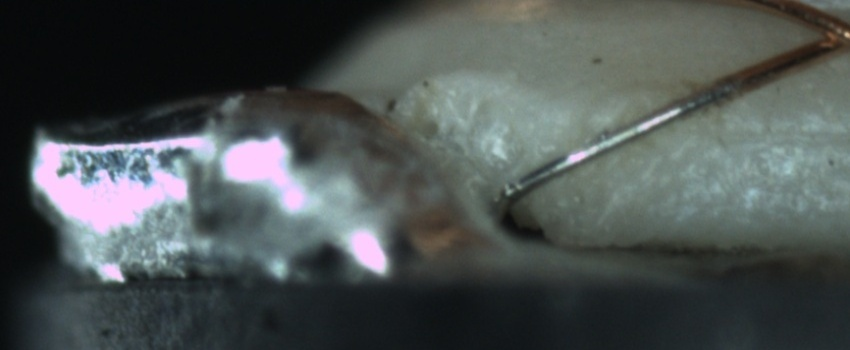CL: (797, 4, 850, 62)
DL: (677, 103, 849, 167)
TS: (501, 83, 733, 203)
